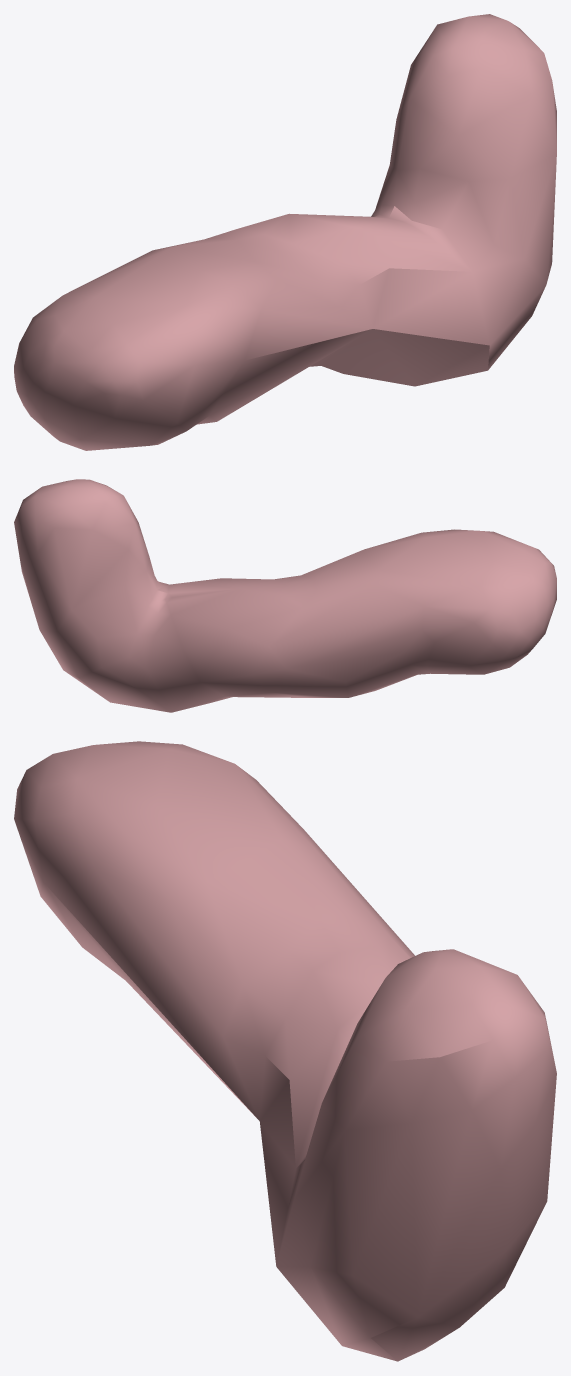
Rendered from fma16981_fj2623.glb.
The picture shows the model from 3 angles, top to bottom: view 1: azimuth 30°, elevation 25°; view 2: azimuth 150°, elevation 25°; view 3: azimuth 270°, elevation 25°; orthographic projection. The views are drawn at different scales.
Visible parts, largest first — view 1: FMA16981_FJ2623; view 2: FMA16981_FJ2623; view 3: FMA16981_FJ2623.
Part boxes in pixels (x1=…): FMA16981_FJ2623: x1=14, y1=14, x2=556, y2=450; FMA16981_FJ2623: x1=14, y1=479, x2=556, y2=712; FMA16981_FJ2623: x1=14, y1=741, x2=556, y2=1361.
Bounding box in the file's own units: 0.0798 × 0.039 × 0.0457.
